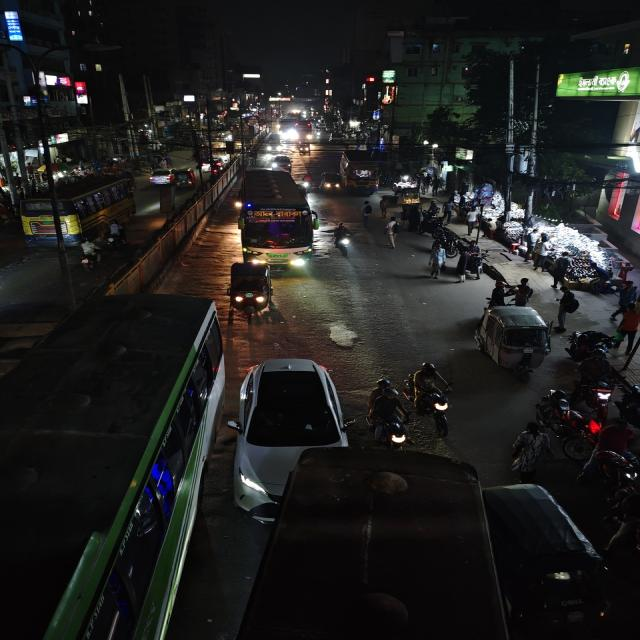bicycle: (506, 419, 553, 478)
bus: (0, 292, 223, 639), (251, 446, 509, 640), (17, 172, 140, 245), (232, 167, 320, 267), (339, 150, 382, 193)
car: (233, 354, 349, 509), (146, 165, 174, 189), (198, 156, 225, 174), (268, 153, 294, 170)
cng: (502, 491, 610, 637), (471, 304, 555, 380), (471, 304, 554, 379), (224, 260, 277, 325), (319, 170, 344, 196), (175, 166, 198, 189), (296, 142, 312, 156)
motorcycle: (535, 388, 601, 446), (405, 358, 456, 430), (362, 377, 409, 446), (576, 348, 622, 412), (75, 239, 106, 272), (330, 220, 356, 258), (100, 219, 128, 249)
pedestrian: (506, 419, 553, 478), (617, 303, 640, 358), (555, 288, 580, 328), (512, 276, 535, 306), (383, 216, 402, 248), (487, 279, 508, 307), (359, 201, 374, 227)
